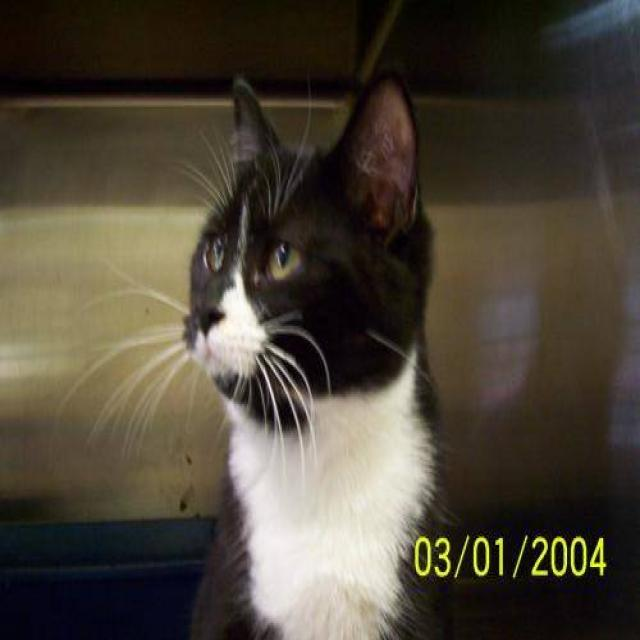cat: (55, 68, 452, 638)
